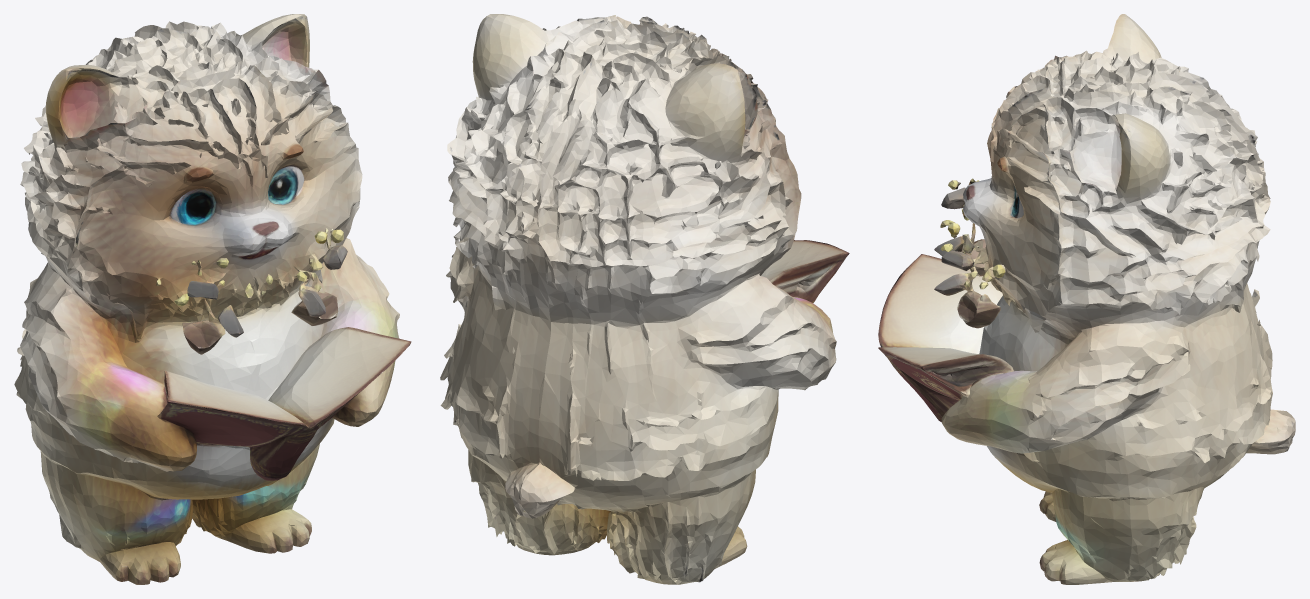
Rendered from cute.glb.
The picture shows the model from 3 angles, left to right: view 1: azimuth 30°, elevation 25°; view 2: azimuth 150°, elevation 25°; view 3: azimuth 270°, elevation 25°; orthographic projection. The views are drawn at different scales.
Visible parts, largest first — view 1: world; view 2: world; view 3: world.
Boxes of the visible parts, x1,y1,x2,y2 form: world: (14, 14, 411, 584); world: (440, 14, 849, 584); world: (878, 14, 1295, 584).
Size of the model in its own units: 0.7328 by 1 by 0.801.
Materials: 1 (1 with a texture image).
